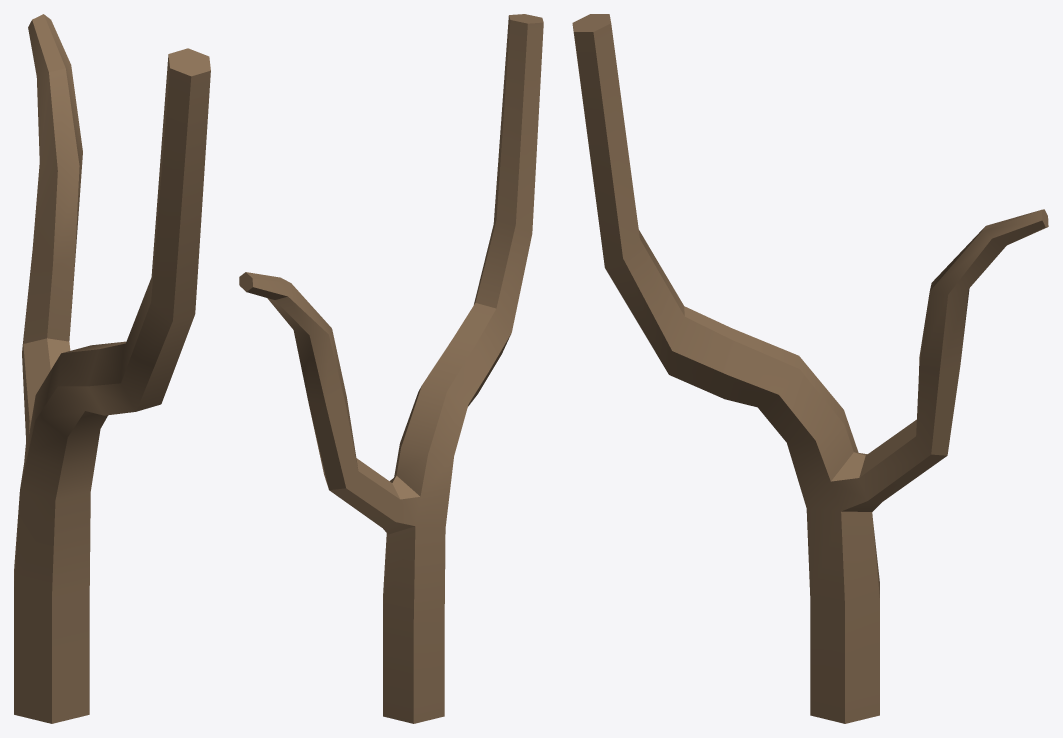
File: Tree_withnoLeaves.fbx
3 renders of one model, left to right at view 1: azimuth 30°, elevation 25°; view 2: azimuth 150°, elevation 25°; view 3: azimuth 270°, elevation 25°, orthographic. The views are drawn at different scales.
Parts seen in each view (by area): view 1: Tree_withNoLeaves; view 2: Tree_withNoLeaves; view 3: Tree_withNoLeaves.
Part boxes in pixels (x1,y1,x2,y2): Tree_withNoLeaves: [14, 14, 210, 723]; Tree_withNoLeaves: [239, 14, 543, 723]; Tree_withNoLeaves: [572, 14, 1048, 723].
Size of the model in its own units: 1.62 by 8.02 by 5.03.
